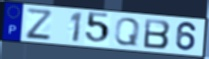1: (67, 11, 84, 44)
5: (84, 11, 111, 47)
6: (174, 22, 198, 53)
B: (142, 18, 172, 50)
Q: (112, 17, 142, 47)
Z: (25, 7, 52, 40)
